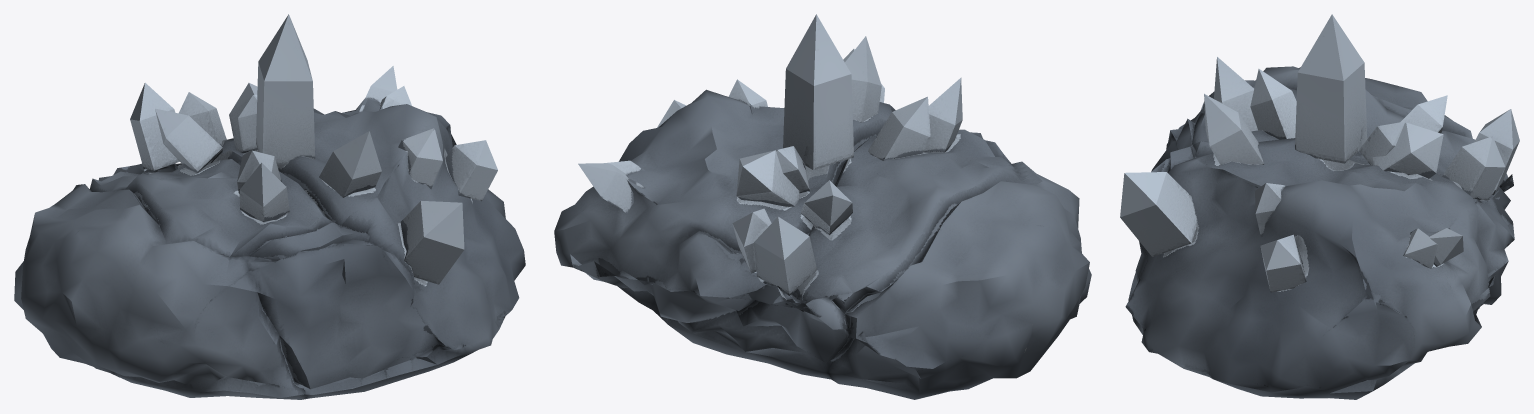
The model's file is mineral_zinc.fbx.
3 renders of one model, left to right at view 1: azimuth 30°, elevation 25°; view 2: azimuth 150°, elevation 25°; view 3: azimuth 270°, elevation 25°, orthographic. The views are drawn at different scales.
Parts seen in each view (by area): view 1: mineral_zinc; view 2: mineral_zinc; view 3: mineral_zinc.
Part boxes in pixels (bbox=[...]): mineral_zinc: bbox=[14, 14, 525, 399]; mineral_zinc: bbox=[554, 14, 1091, 399]; mineral_zinc: bbox=[1120, 14, 1519, 399].
Bounding box in the file's own units: 2.45 × 1.53 × 1.84.
1 material, 1 textured.
